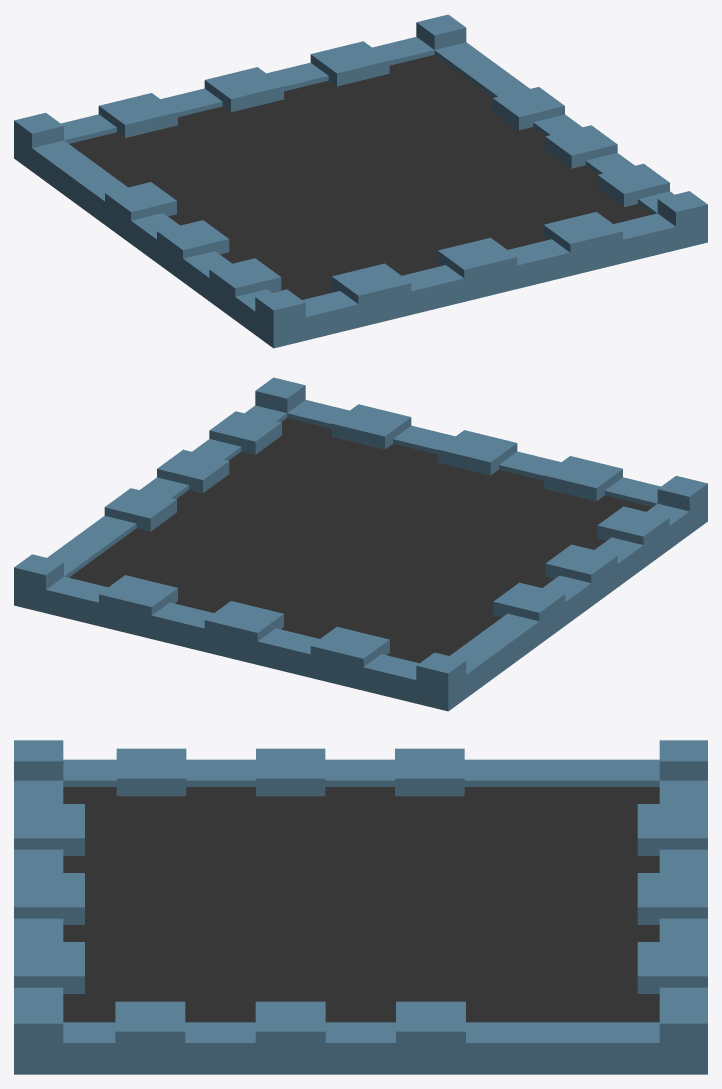
The model's file is Metallic Blue.fbx.
3 views of the same model, one above another, from view 1: azimuth 30°, elevation 25°; view 2: azimuth 150°, elevation 25°; view 3: azimuth 270°, elevation 25° (orthographic). The views are drawn at different scales.
Visible parts, largest first — view 1: t4.002, Cube.032, Cube.033, Cube.030, Cube.031; view 2: t4.002, Cube.030, Cube.032, Cube.033, Cube.031; view 3: t4.002, Cube.031, Cube.033, Cube.032, Cube.030.
Part boxes in pixels (x1=…): t4.002: x1=69, y1=55, x2=652, y2=299; Cube.032: x1=255, y1=191, x2=707, y2=348; Cube.033: x1=32, y1=140, x2=281, y2=334; Cube.030: x1=14, y1=37, x2=434, y2=171; Cube.031: x1=416, y1=14, x2=673, y2=214; t4.002: x1=69, y1=418, x2=652, y2=663; Cube.030: x1=46, y1=575, x2=466, y2=711; Cube.032: x1=255, y1=377, x2=707, y2=534; Cube.033: x1=450, y1=503, x2=689, y2=697; Cube.031: x1=14, y1=405, x2=287, y2=613; t4.002: x1=63, y1=787, x2=659, y2=1022; Cube.031: x1=63, y1=1001, x2=707, y2=1074; Cube.033: x1=63, y1=748, x2=659, y2=796; Cube.032: x1=14, y1=740, x2=84, y2=1074; Cube.030: x1=637, y1=740, x2=707, y2=1002.
Bounding box in the file's own units: 362 × 30.23 × 374.
